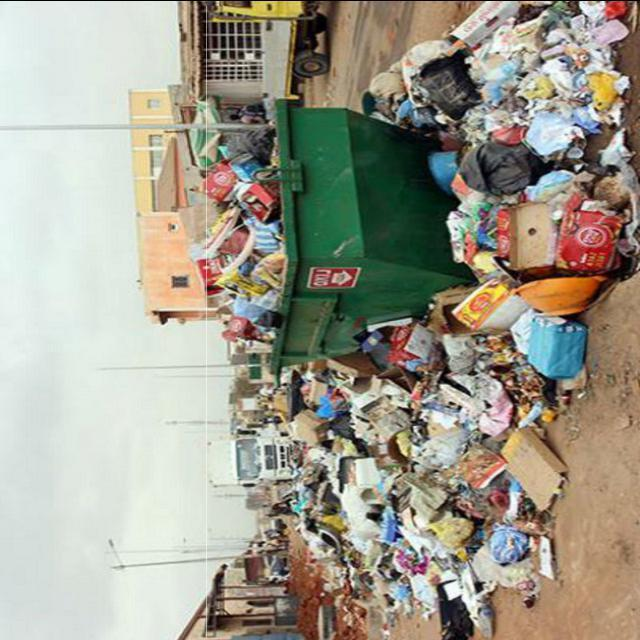Trashbag: (452, 140, 550, 202), (405, 54, 485, 128)
